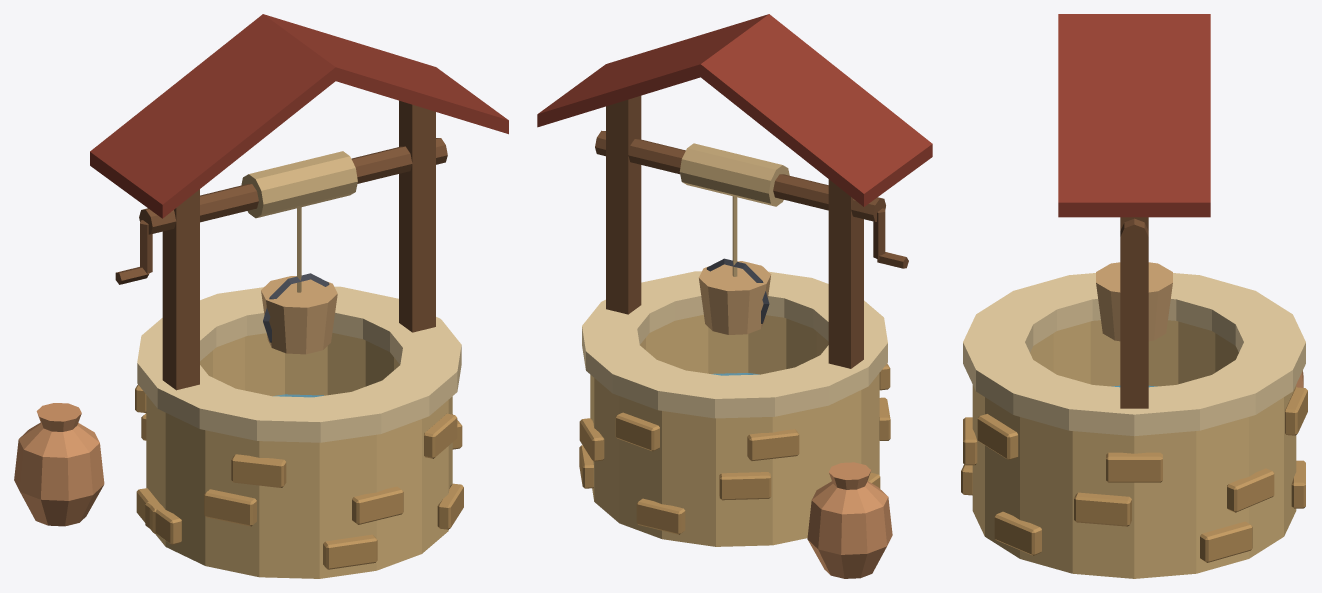
File: DesertWell.fbx
3 renders of one model, left to right at view 1: azimuth 30°, elevation 25°; view 2: azimuth 150°, elevation 25°; view 3: azimuth 270°, elevation 25°, orthographic. The views are drawn at different scales.
Visible parts, largest first — view 1: DesertWell_Sandstone, DesertWell_WoodRed, DesertWell_SandstoneLight, DesertWell_WoodDark, DesertWell_SandstoneDark, DesertWell_Adobe, DesertWell_Rope, DesertWell_WoodLight; view 2: DesertWell_Sandstone, DesertWell_WoodRed, DesertWell_SandstoneLight, DesertWell_WoodDark, DesertWell_SandstoneDark, DesertWell_Adobe, DesertWell_Rope, DesertWell_WoodLight, DesertWell_DarkMetal; view 3: DesertWell_Sandstone, DesertWell_WoodRed, DesertWell_SandstoneLight, DesertWell_SandstoneDark, DesertWell_WoodDark, DesertWell_WoodLight.
Part boxes in pixels (box(x1,y1,x2,y2)): DesertWell_Sandstone: box(146, 333, 452, 578); DesertWell_WoodRed: box(90, 14, 508, 218); DesertWell_SandstoneLight: box(137, 286, 461, 442); DesertWell_WoodDark: box(115, 100, 447, 390); DesertWell_SandstoneDark: box(135, 384, 463, 569); DesertWell_Adobe: box(14, 403, 104, 526); DesertWell_Rope: box(241, 151, 357, 292); DesertWell_WoodLight: box(261, 276, 337, 354); DesertWell_Sandstone: box(590, 314, 879, 546); DesertWell_WoodRed: box(537, 14, 932, 206); DesertWell_SandstoneLight: box(582, 271, 887, 418); DesertWell_WoodDark: box(595, 96, 908, 368); DesertWell_SandstoneDark: box(579, 363, 890, 534); DesertWell_Adobe: box(807, 462, 892, 578); DesertWell_Rope: box(679, 143, 789, 276); DesertWell_WoodLight: box(699, 261, 771, 334); DesertWell_DarkMetal: box(706, 258, 769, 323); DesertWell_Sandstone: box(972, 320, 1296, 578); DesertWell_WoodRed: box(1058, 14, 1210, 217); DesertWell_SandstoneLight: box(963, 273, 1305, 436); DesertWell_SandstoneDark: box(961, 387, 1307, 562); DesertWell_WoodDark: box(1120, 217, 1148, 408); DesertWell_WoodLight: box(1096, 262, 1172, 341).
Bounding box in the file's own units: 10 × 11.5 × 7.28.
